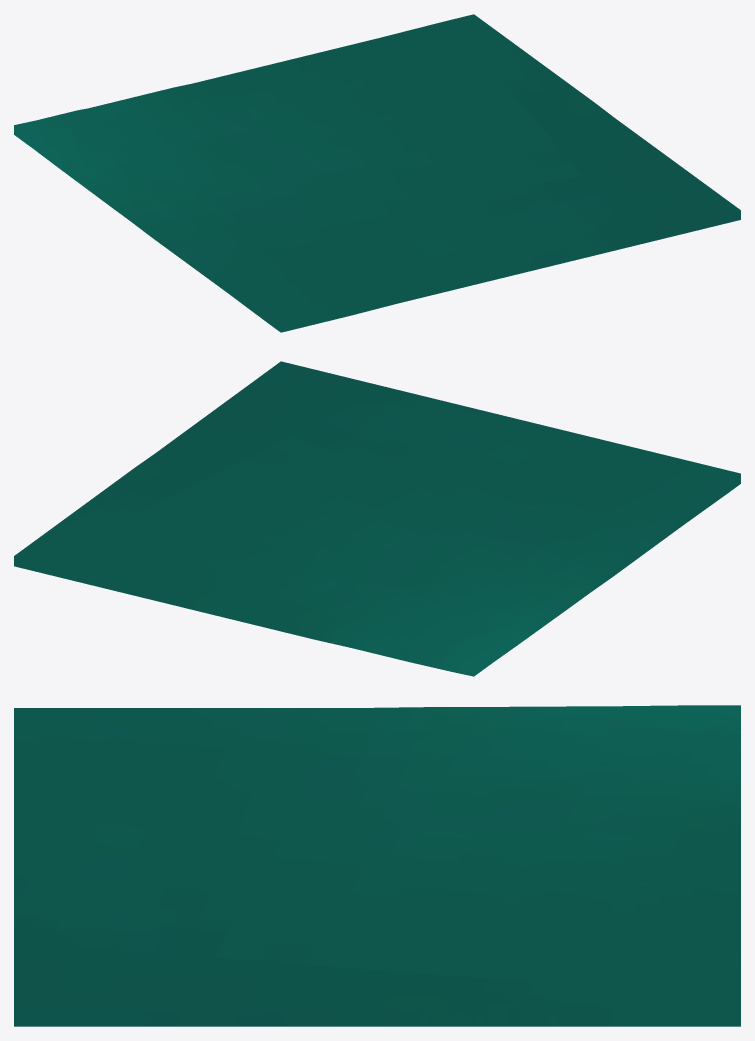
The model's file is z17-20946-50645-h0-yup-uvflip-v3-world.glb.
3 renders of one model, top to bottom at view 1: azimuth 30°, elevation 25°; view 2: azimuth 150°, elevation 25°; view 3: azimuth 270°, elevation 25°, orthographic. The views are drawn at different scales.
Size of the model in its own units: 241 by 6.08 by 243.
1 material, 1 textured.
